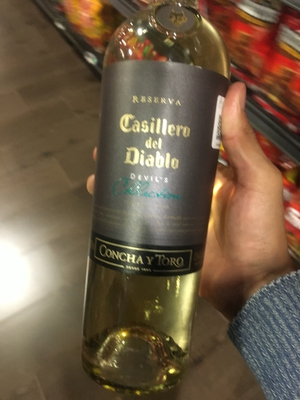casillero del diablo devils collection verde: (75, 8, 243, 371)
